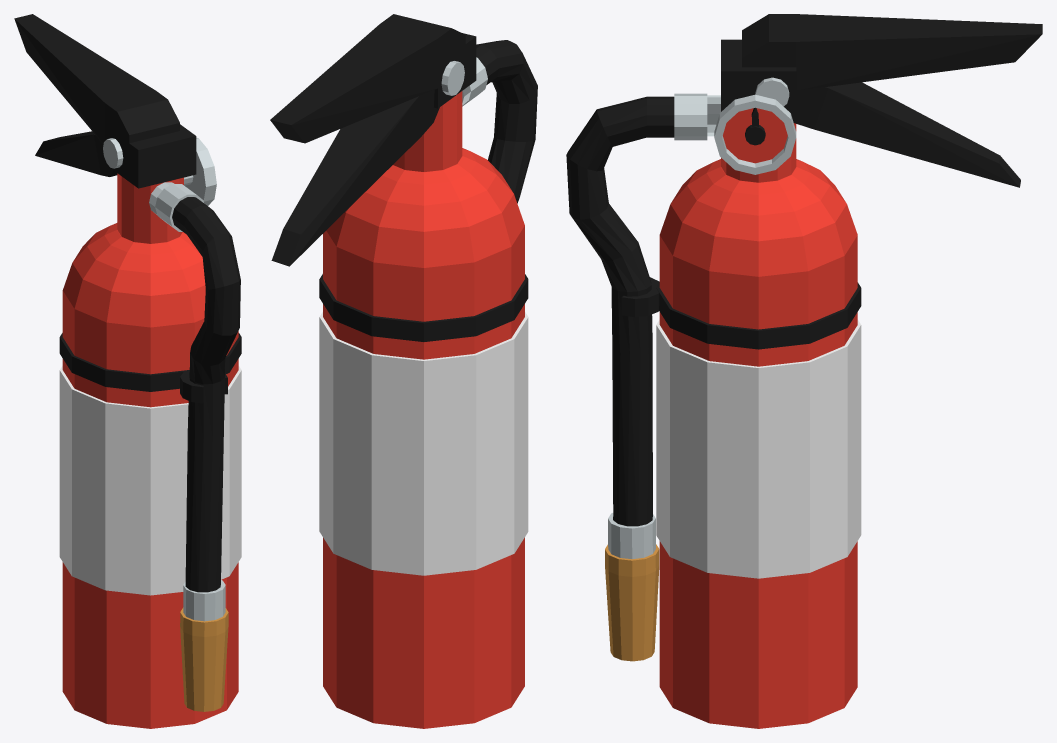
Rendered from fire_extinguisher.glb.
The picture shows the model from 3 angles, left to right: view 1: azimuth 30°, elevation 25°; view 2: azimuth 150°, elevation 25°; view 3: azimuth 270°, elevation 25°; orthographic projection. The views are drawn at different scales.
Visible parts, largest first — view 1: fire_extinguisher; view 2: fire_extinguisher; view 3: fire_extinguisher.
Part boxes in pixels (bbox=[...]): fire_extinguisher: bbox=[14, 14, 241, 728]; fire_extinguisher: bbox=[270, 14, 537, 728]; fire_extinguisher: bbox=[566, 14, 1042, 728].
Bounding box in the file's own units: 0.1753 × 0.62 × 0.4071.
